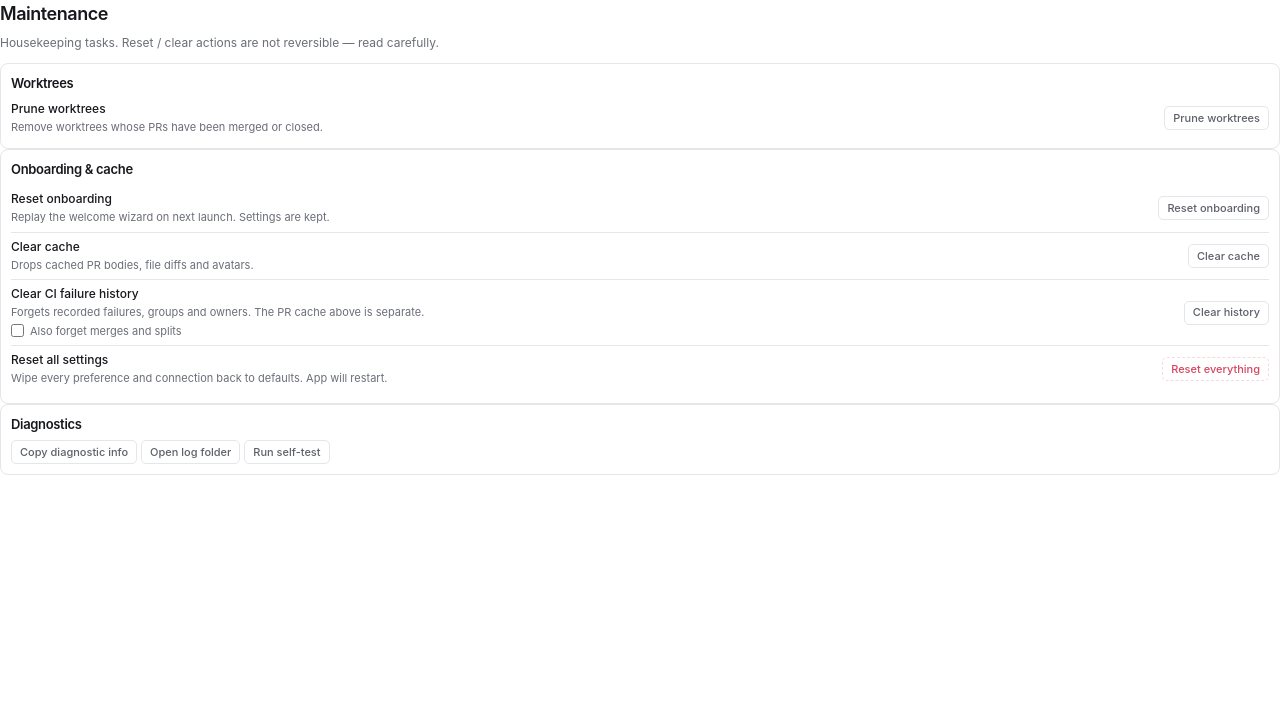
Test: MaintenanceSection › clicking "Run self-test" opens results dialog and shows results
The width and height of the screenshot is (1280, 720).
expect the dialog "Self-test results" is not shown: met
Click the button "Run self-test". click: [287, 452]
box: [244,440,330,464]
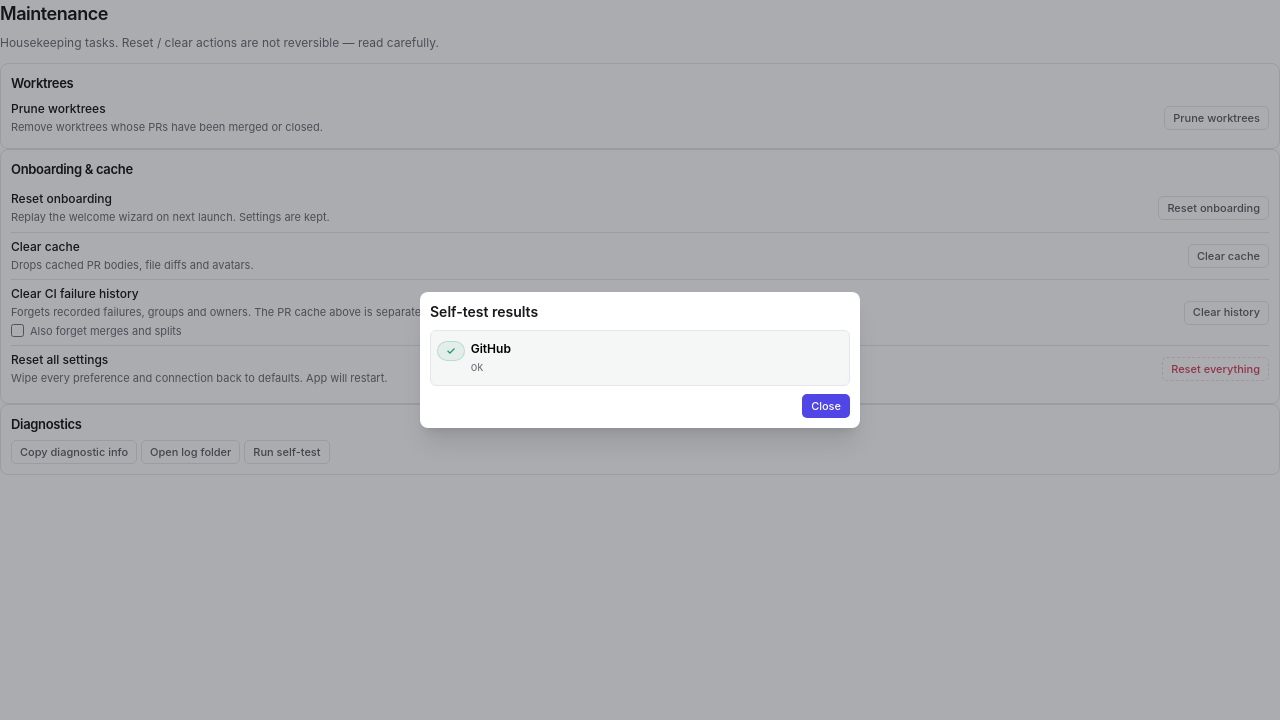
expect the dialog "Self-test results" is shown: met
expect the text "GitHub" is shown: met, box [471,341,511,356]
expect the text "ok" is shown: met, box [471,360,483,374]
